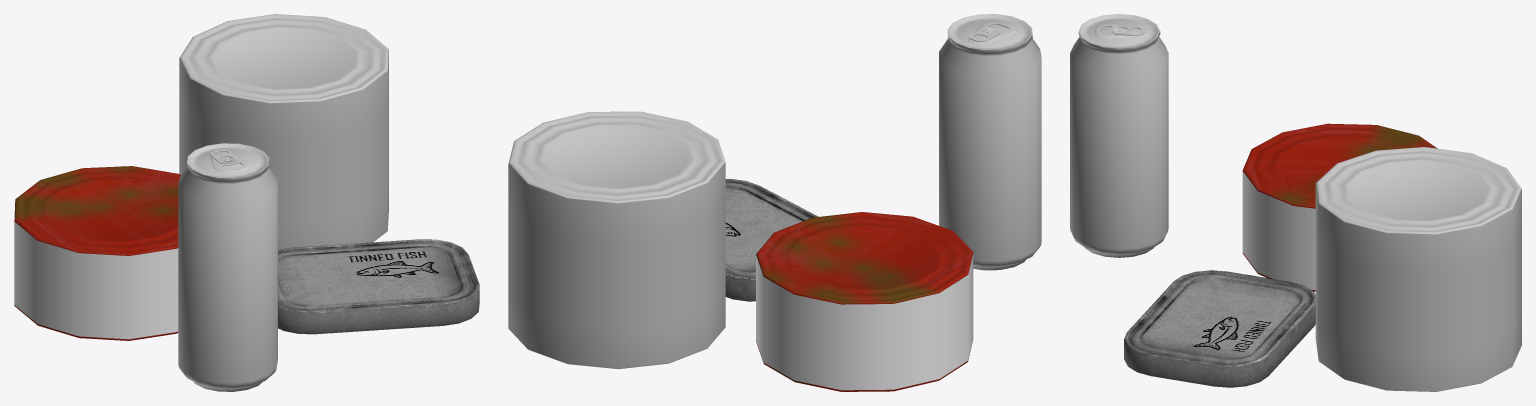
The model's file is eda.fbx.
3 renders of one model, left to right at view 1: azimuth 30°, elevation 25°; view 2: azimuth 150°, elevation 25°; view 3: azimuth 270°, elevation 25°, orthographic. The views are drawn at different scales.
Parts seen in each view (by area): view 1: Cylinder, Cylinder_001, Vert, Cube_002; view 2: Cylinder, Cylinder_001, Vert, Cube_002; view 3: Cylinder, Vert, Cube_002, Cylinder_001.
Boxes of the visible parts, x1,y1,x2,y2 form: Cylinder: (179, 14, 388, 249); Cylinder_001: (14, 166, 180, 340); Vert: (178, 143, 277, 391); Cube_002: (278, 239, 479, 334); Cylinder: (508, 111, 725, 369); Cylinder_001: (756, 212, 973, 391); Vert: (939, 14, 1041, 270); Cube_002: (725, 179, 818, 301); Cylinder: (1315, 147, 1521, 391); Vert: (1070, 14, 1168, 257); Cube_002: (1124, 270, 1315, 387); Cylinder_001: (1242, 123, 1437, 291).
Bounding box in the file's own units: 625 × 347 × 648.
